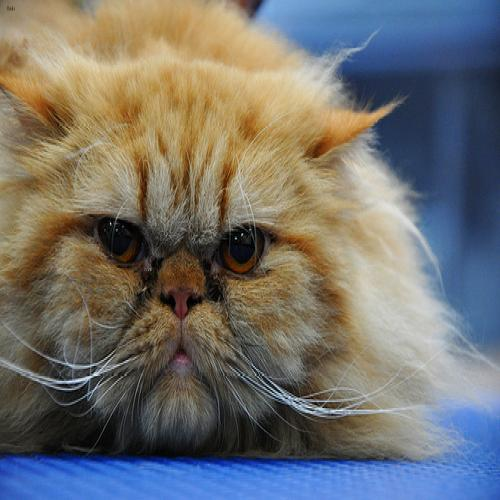persian: (1, 39, 396, 465)
